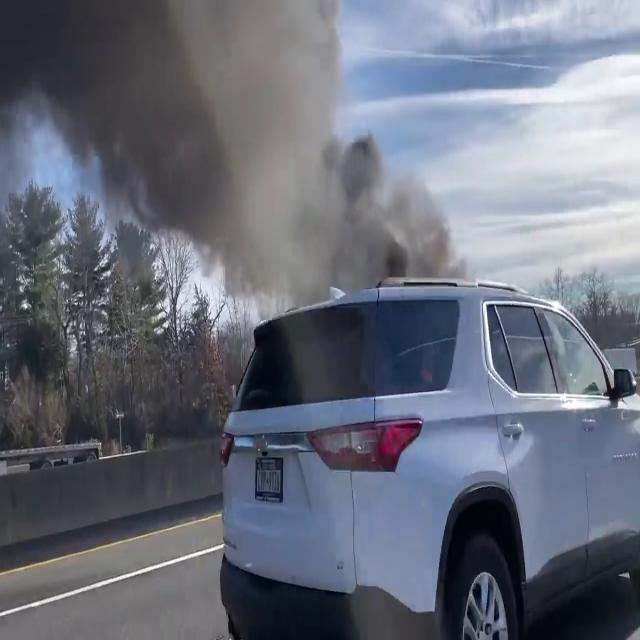Smoke: (0, 0, 474, 318)
